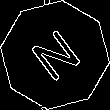N_SE: (24, 22, 86, 88)
